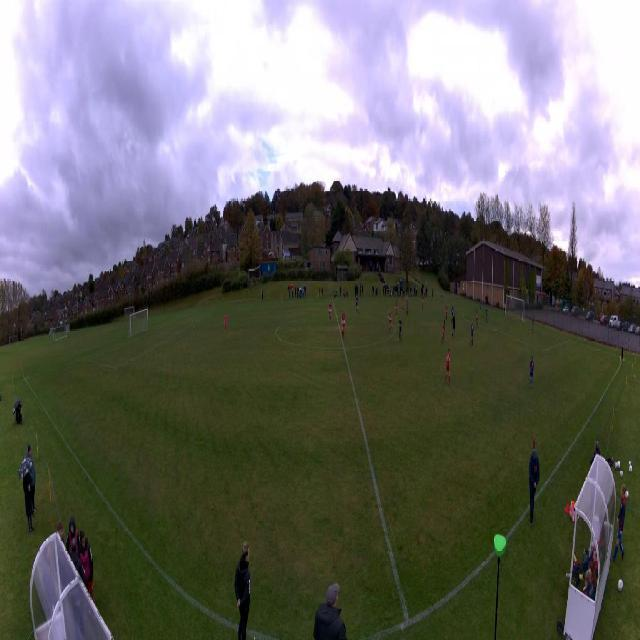ball: (530, 330, 531, 332)
player: (445, 348, 451, 385), (529, 356, 535, 387), (341, 310, 346, 338), (387, 308, 392, 334), (470, 321, 474, 347), (398, 317, 402, 342), (452, 313, 456, 337), (441, 320, 445, 342), (328, 301, 332, 322), (224, 313, 228, 333), (355, 295, 359, 314), (485, 305, 489, 323), (401, 297, 405, 314), (395, 299, 398, 319), (475, 309, 478, 328), (451, 304, 454, 323), (445, 303, 448, 321), (406, 298, 408, 316), (532, 318, 534, 334), (504, 302, 506, 317), (422, 295, 424, 309), (480, 300, 482, 311), (423, 289, 425, 300)
